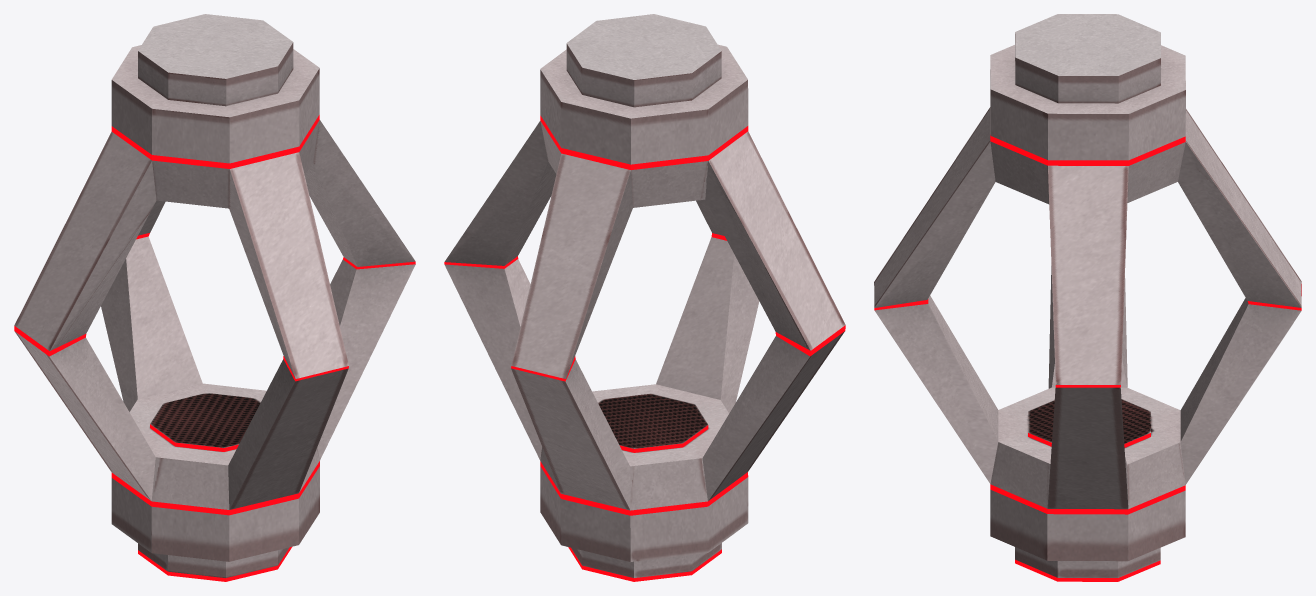
File: HQCentral.fbx
3 renders of one model, left to right at view 1: azimuth 30°, elevation 25°; view 2: azimuth 150°, elevation 25°; view 3: azimuth 270°, elevation 25°, orthographic.
Parts seen in each view (by area): view 1: HQ_LOD0; view 2: HQ_LOD0; view 3: HQ_LOD0.
Part boxes in pixels (x1,y1,x2,y2): HQ_LOD0: (14,14,415,581); HQ_LOD0: (444,14,845,581); HQ_LOD0: (874,14,1301,581).
Size of what is drawn, in the model's own units: 6801 by 8890 by 6802.
Materials: 2 (1 with a texture image).
